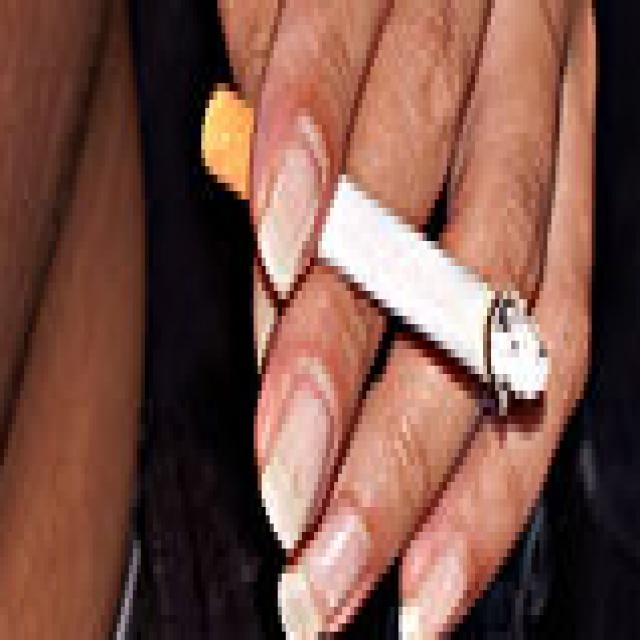smoking: (200, 84, 548, 393)
